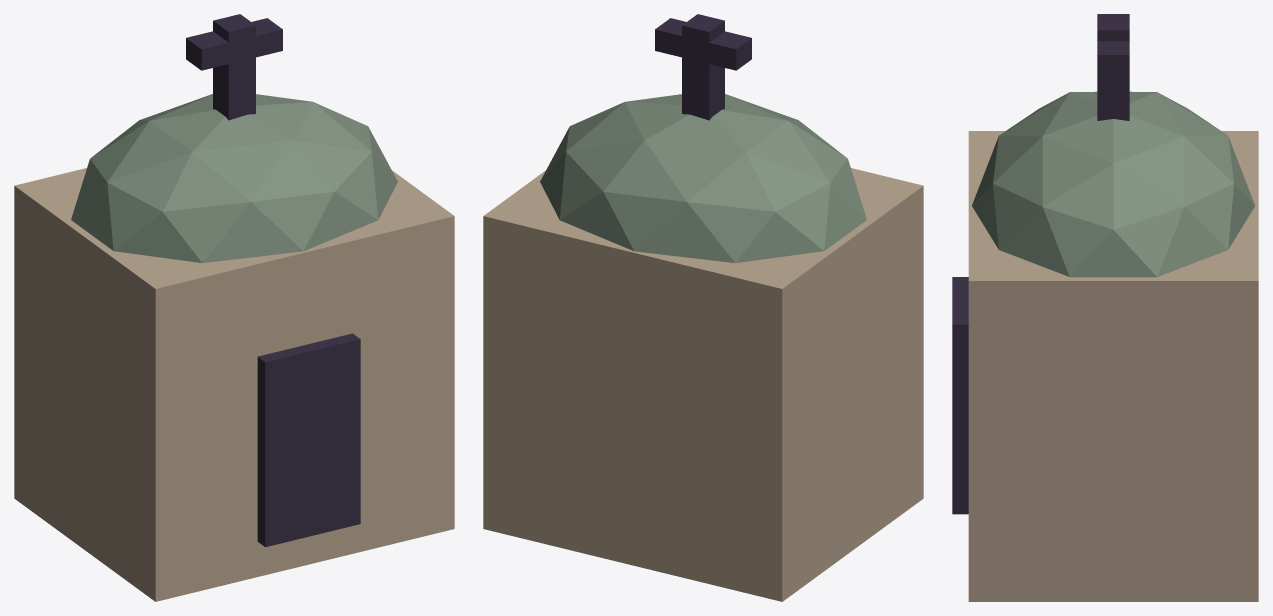
Rendered from crypt.glb.
3 views of the same model, side by side, from view 1: azimuth 30°, elevation 25°; view 2: azimuth 150°, elevation 25°; view 3: azimuth 270°, elevation 25° (orthographic). The views are drawn at different scales.
Visible parts, largest first — view 1: graveyard-crypt; view 2: graveyard-crypt; view 3: graveyard-crypt.
Part boxes in pixels (box(x1,y1,x2,y2)): graveyard-crypt: box(14, 14, 454, 601); graveyard-crypt: box(483, 14, 923, 601); graveyard-crypt: box(952, 14, 1258, 601).
Bounding box in the file's own units: 0.44 × 0.69 × 0.38.
